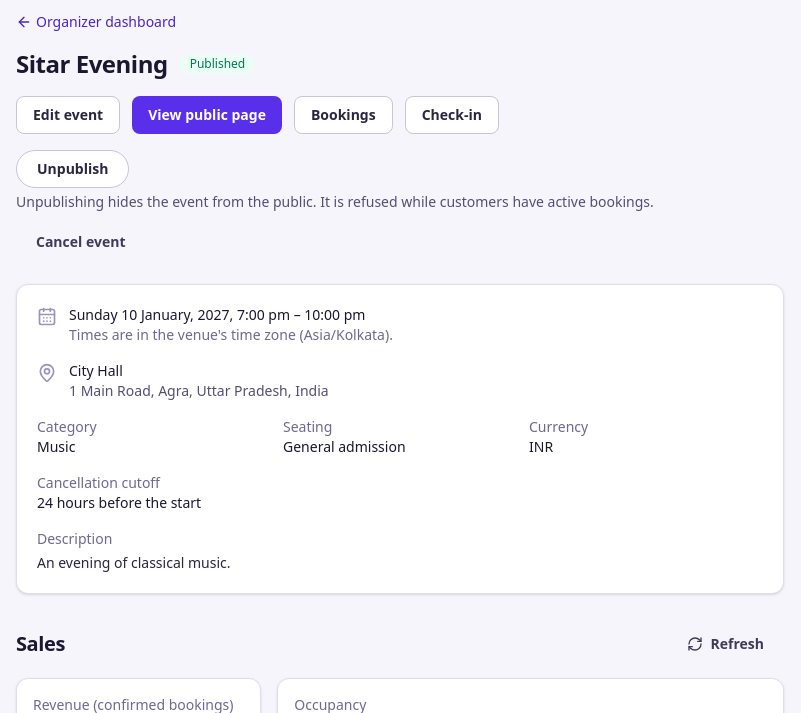
Test: OrganizerEventPage › publishing and cancelling › cancels only after a second confirmation that explains the consequences, then becomes read-only
Click the button "Cancel event" at [81, 242], box [16,224,146,260]
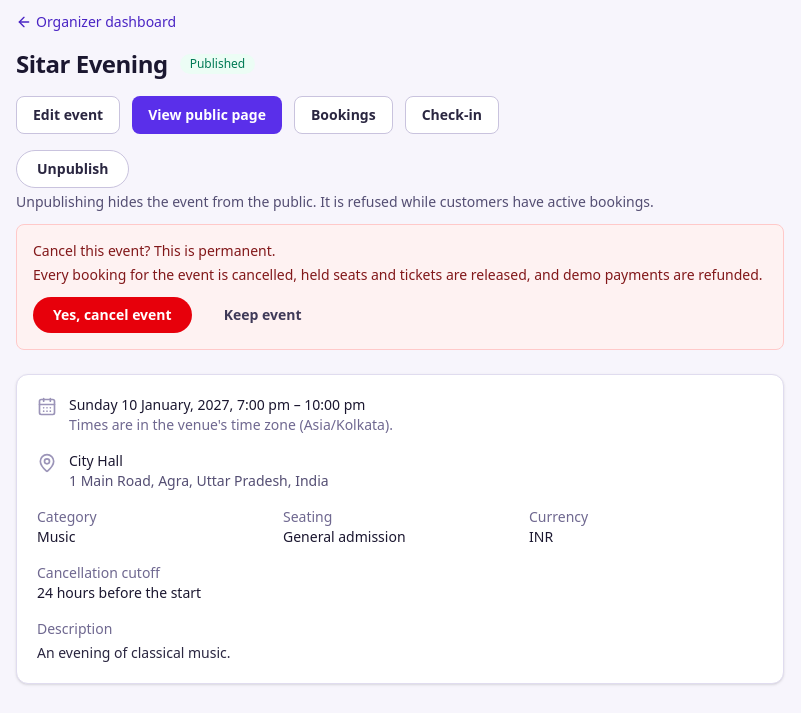
Now the text "Cancel this event? This is permanent." is shown, box [33,241,276,260]
Now the text "demo payments are refunded" is shown, box [33,265,763,284]
Click the button "Yes, cancel event" at [112, 315], box [33,297,192,333]
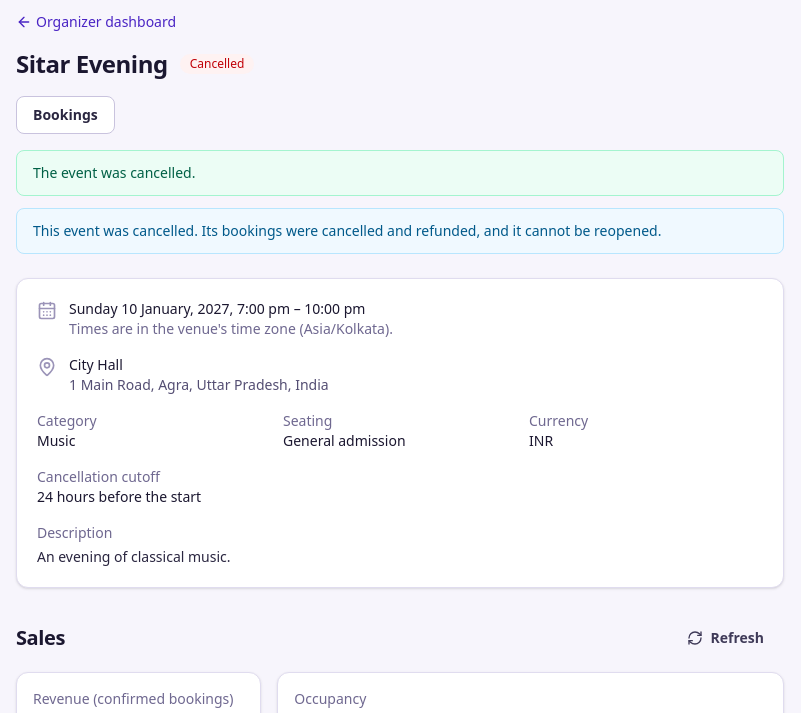
Now the text "Cancelled" is shown, box [180,54,254,74]
Now the link "Edit event" is gone
